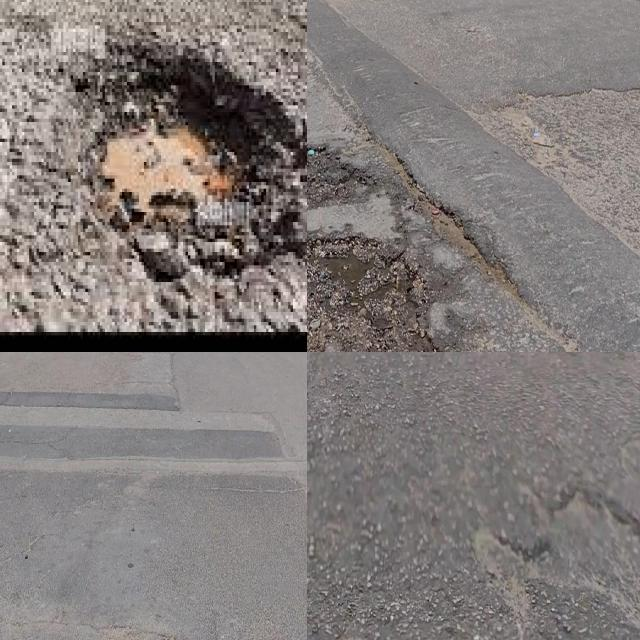Pothole: (83, 59, 305, 302), (307, 225, 442, 352), (307, 137, 375, 212)
